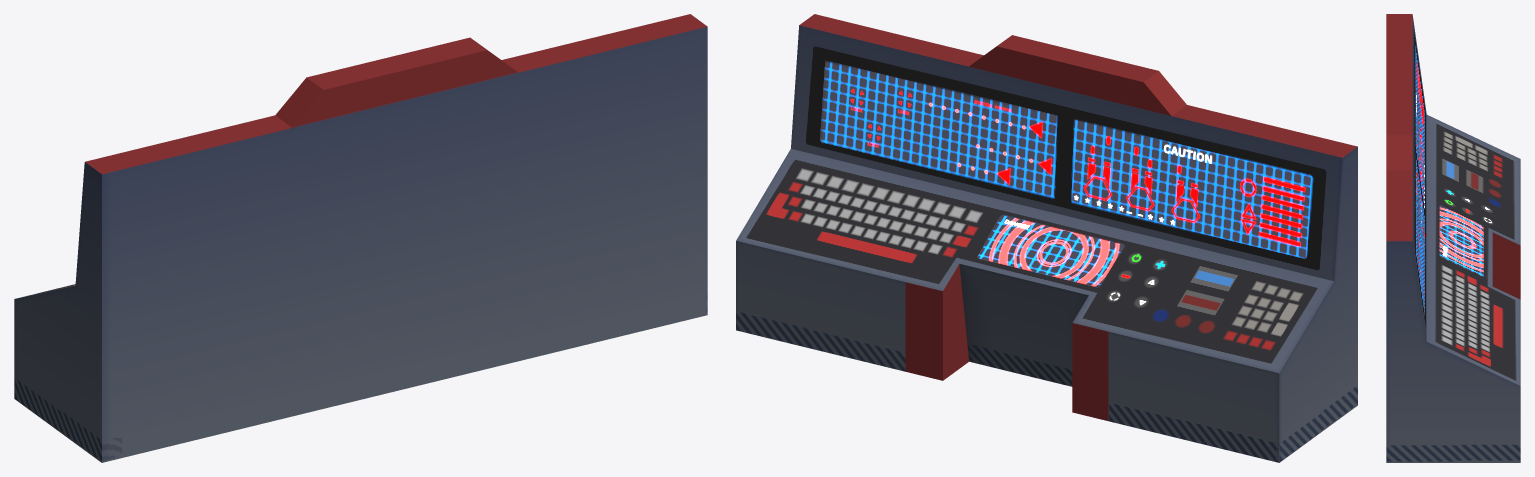
File: FUT0510006.fbx
3 views of the same model, side by side, from view 1: azimuth 30°, elevation 25°; view 2: azimuth 150°, elevation 25°; view 3: azimuth 270°, elevation 25° (orthographic). The views are drawn at different scales.
Parts seen in each view (by area): view 1: smFUT0510006; view 2: smFUT0510006; view 3: smFUT0510006.
Boxes of the visible parts, box(x1,y1,x2,y2) form: smFUT0510006: box(14, 14, 707, 462); smFUT0510006: box(736, 14, 1357, 462); smFUT0510006: box(1386, 14, 1520, 462).
Bounding box in the file's own units: 503 × 253 × 126.
Materials: 1 (1 with a texture image).
